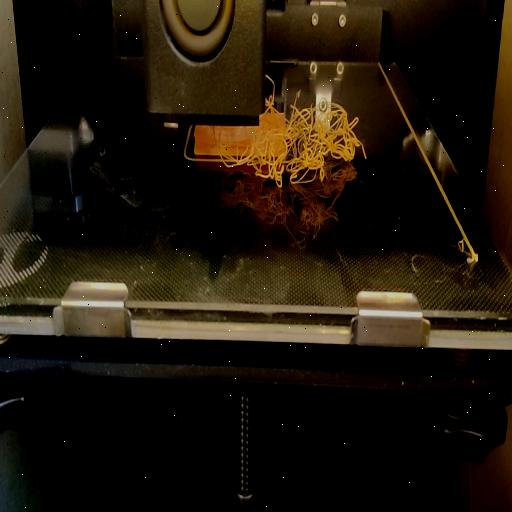spaghetti: (264, 76, 364, 201), (224, 126, 250, 172), (250, 113, 264, 181)
